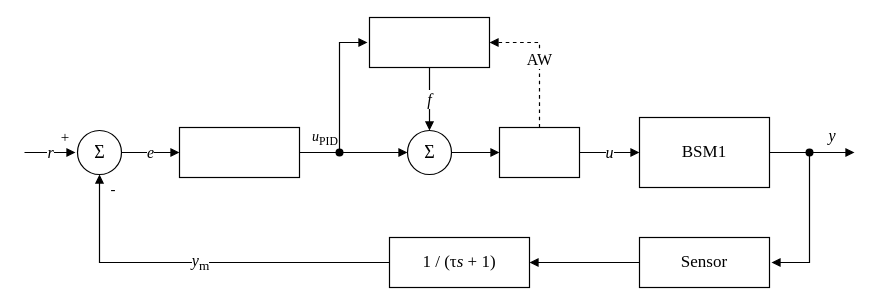
The diagram is 881 pixels wide and 306 high, and some of its shapes have lost their labels. The centre of each missing label's shape, as x and y in pixels:
"Daily ILC" goes at point 429,42.
"PID" goes at point 239,152.
"sat" goes at point 539,152.
